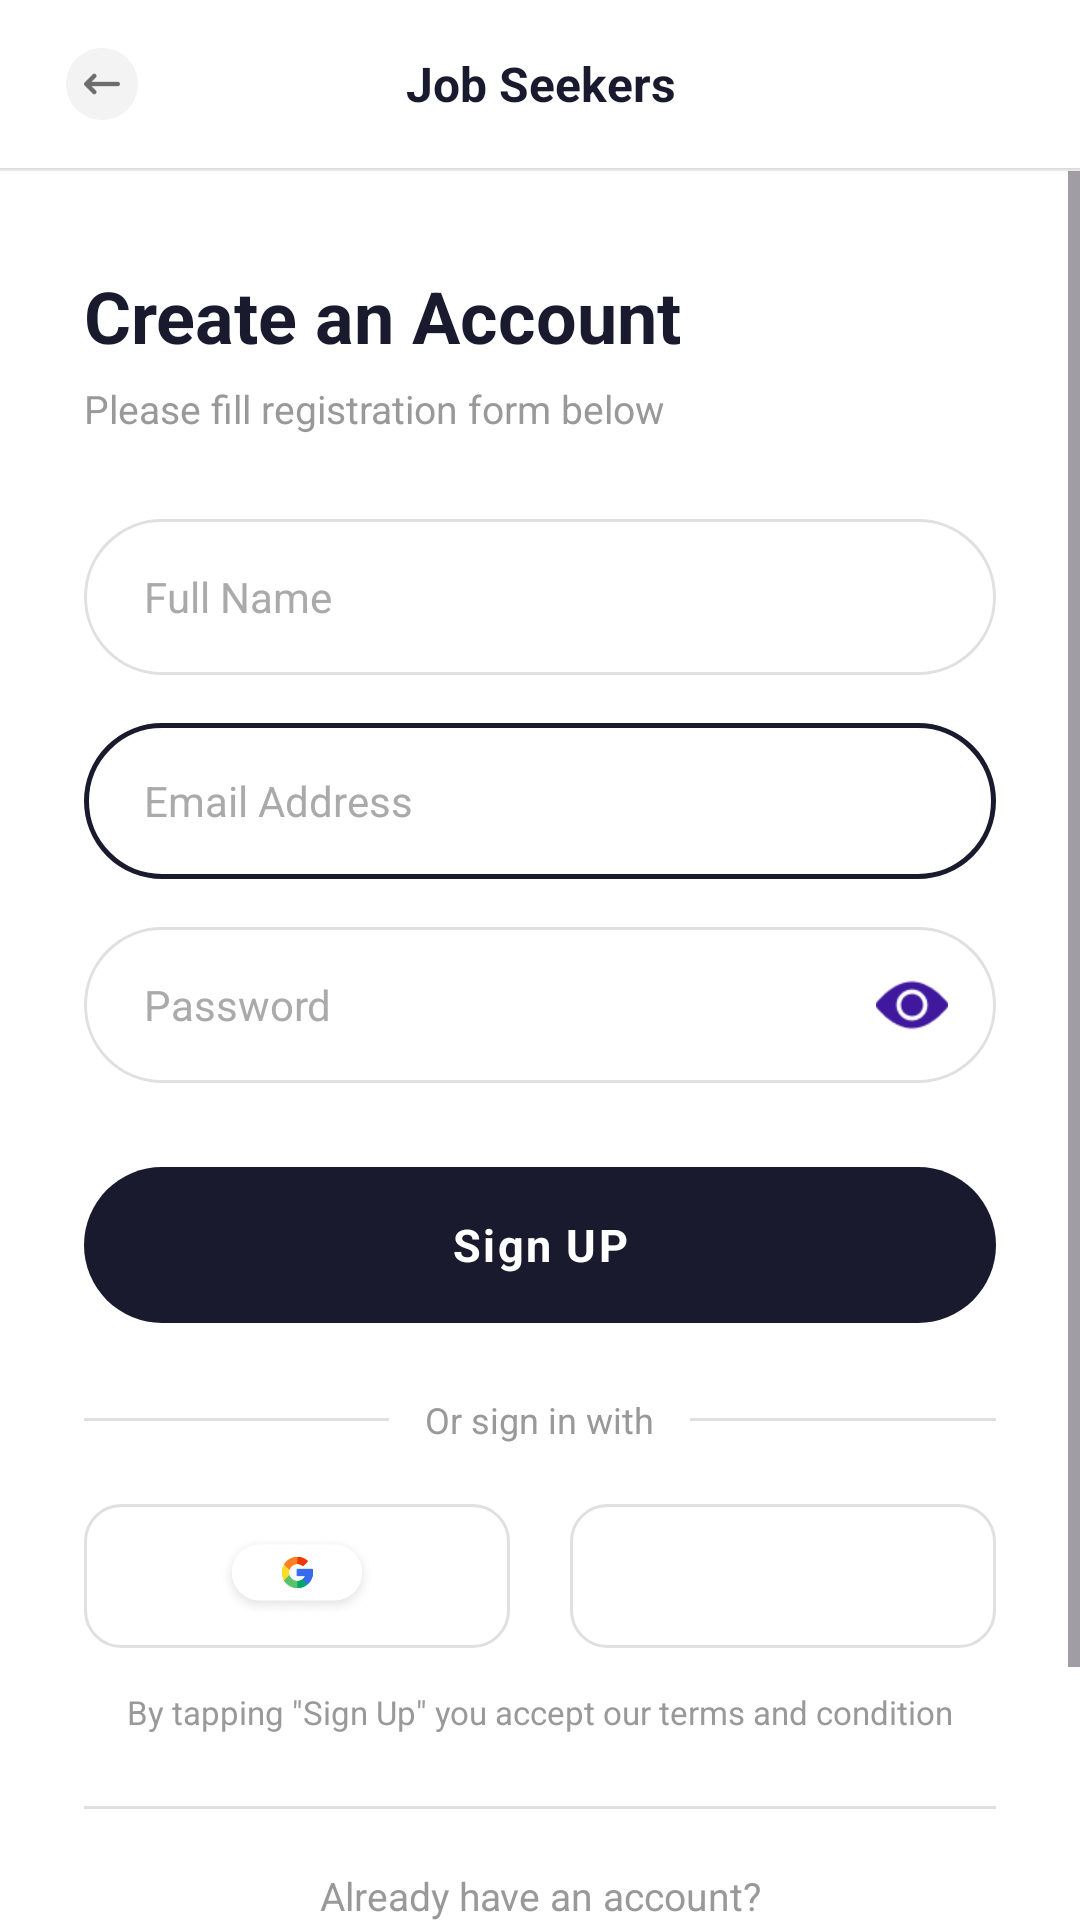

Screen size 1080 × 1920. Icon name, then its center in pixels as [x,y]:
Back: [102,84]
